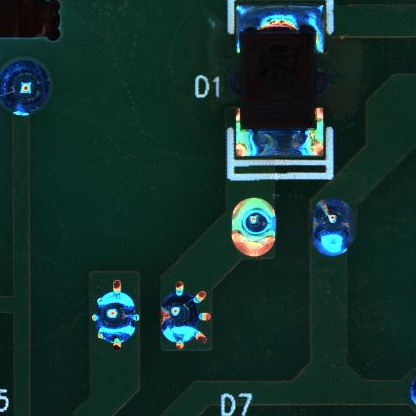spot: (157, 279, 212, 352), (91, 280, 141, 351), (2, 58, 51, 116), (232, 196, 276, 259), (311, 199, 354, 257)
